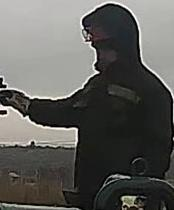gloves: (0, 89, 33, 117)
helmet: (81, 19, 115, 46)
vest: (74, 66, 173, 209)
